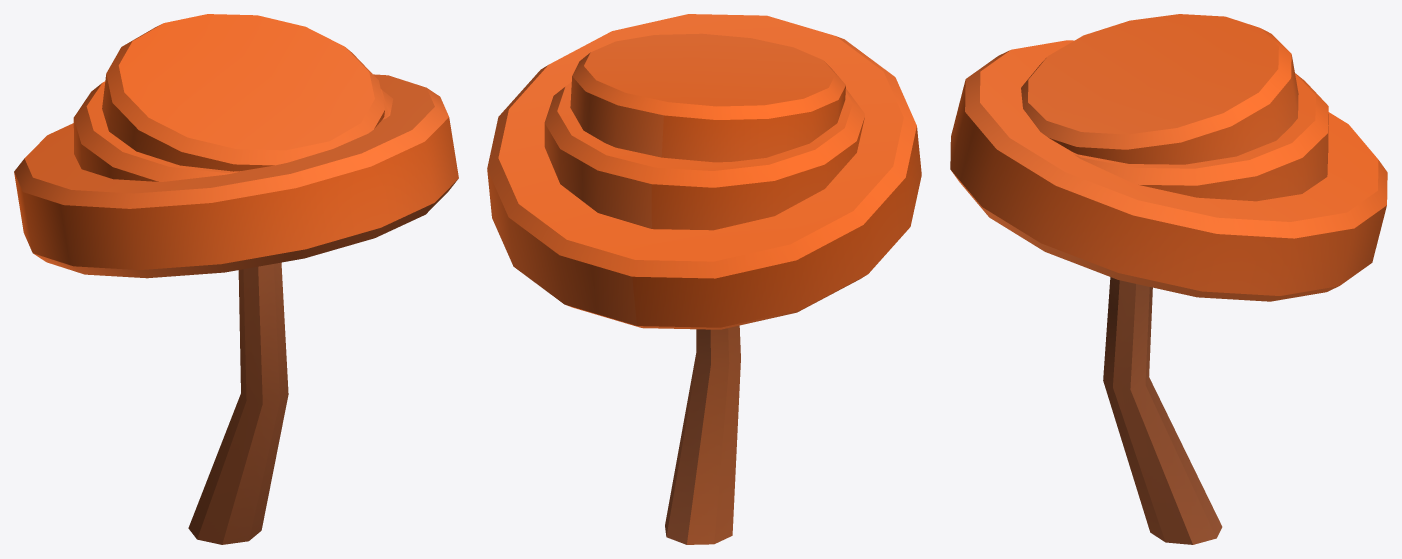
File: tree_5_orange.fbx
The picture shows the model from 3 angles, left to right: view 1: azimuth 30°, elevation 25°; view 2: azimuth 150°, elevation 25°; view 3: azimuth 270°, elevation 25°; orthographic projection. The views are drawn at different scales.
Visible parts, largest first — view 1: tree_5_orange; view 2: tree_5_orange; view 3: tree_5_orange.
Boxes of the visible parts, x1,y1,x2,y2 form: tree_5_orange: (14,14,458,544); tree_5_orange: (487,14,921,544); tree_5_orange: (950,14,1387,544).
Bounding box in the file's own units: 563 × 676 × 563.
